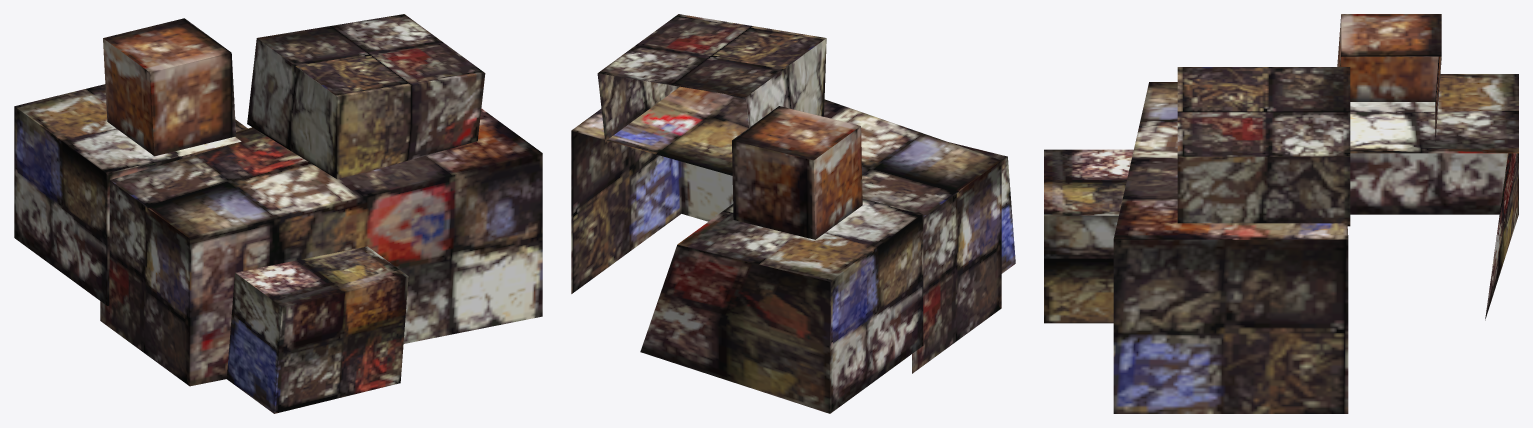
Rendered from BnL_Tune_Up_Trash_Pile_Cube_Dispenser_02.fbx.
The picture shows the model from 3 angles, left to right: view 1: azimuth 30°, elevation 25°; view 2: azimuth 150°, elevation 25°; view 3: azimuth 270°, elevation 25°; orthographic projection. The views are drawn at different scales.
Visible parts, largest first — view 1: BnL_Tune_Up_Trash_Pile_Cube_Dispenser_02; view 2: BnL_Tune_Up_Trash_Pile_Cube_Dispenser_02; view 3: BnL_Tune_Up_Trash_Pile_Cube_Dispenser_02.
Part boxes in pixels (x1,y1,x2,y2): BnL_Tune_Up_Trash_Pile_Cube_Dispenser_02: (14, 14, 542, 413); BnL_Tune_Up_Trash_Pile_Cube_Dispenser_02: (571, 14, 1015, 413); BnL_Tune_Up_Trash_Pile_Cube_Dispenser_02: (1044, 14, 1518, 413).
Bounding box in the file's own units: 2.81 × 1.9 × 3.2.
1 material, 1 textured.
